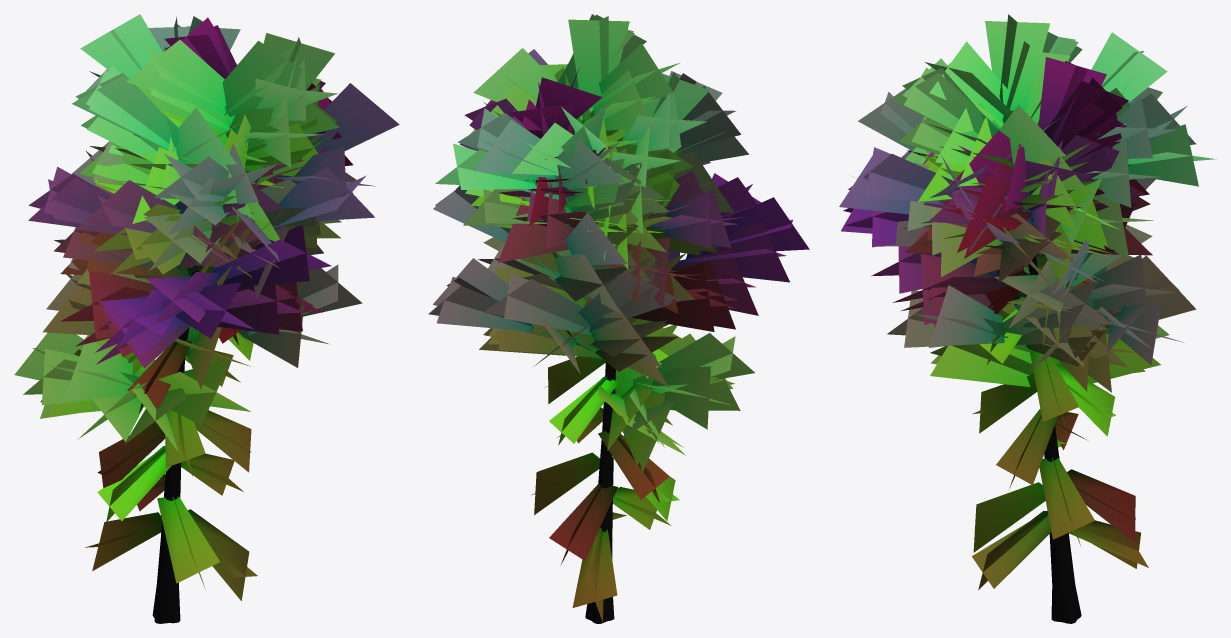
Rendered from M_Realistic21_11.fbx.
3 views of the same model, side by side, from view 1: azimuth 30°, elevation 25°; view 2: azimuth 150°, elevation 25°; view 3: azimuth 270°, elevation 25° (orthographic). The views are drawn at different scales.
Parts seen in each view (by area): view 1: Tree_11; view 2: Tree_11; view 3: Tree_11.
Boxes of the visible parts, x1,y1,x2,y2 form: Tree_11: (14,14,399,623); Tree_11: (428,14,809,623); Tree_11: (839,14,1216,623).
Bounding box in the file's own units: 1011 × 1868 × 1076.
